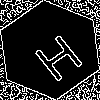H: (25, 25, 86, 84)
